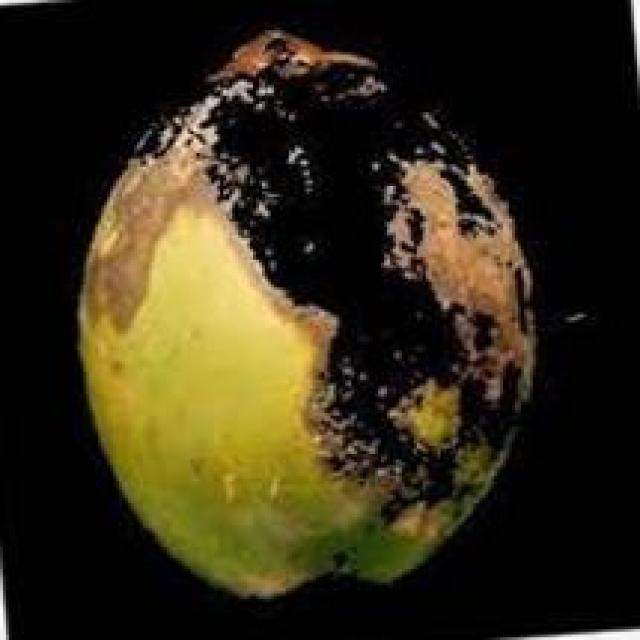damaged: (80, 27, 533, 602)
